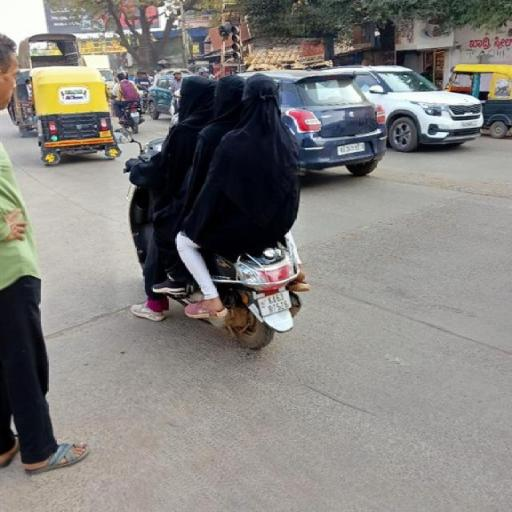tripple riding: (120, 71, 312, 233)
